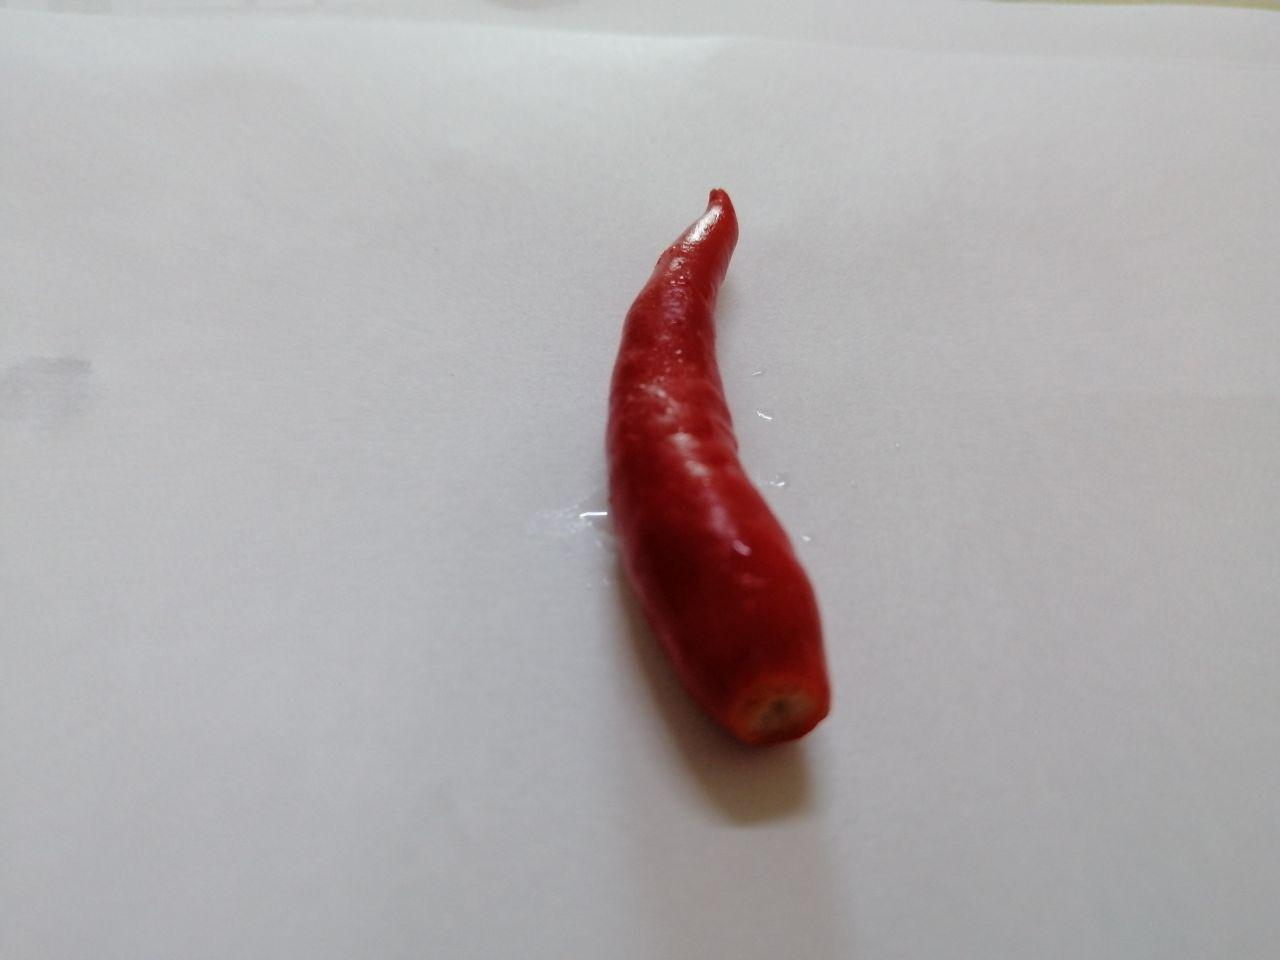lada merah: (580, 168, 849, 774)
